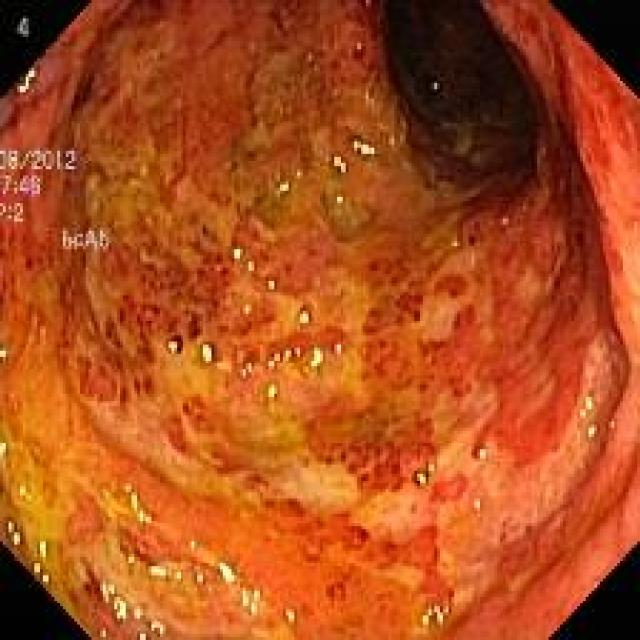ulcerative-colitis-grade-3: (0, 3, 640, 638)
